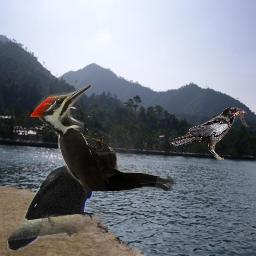Crow: (7, 152, 108, 251), (170, 105, 252, 160)
Woodpecker: (21, 85, 176, 191)
